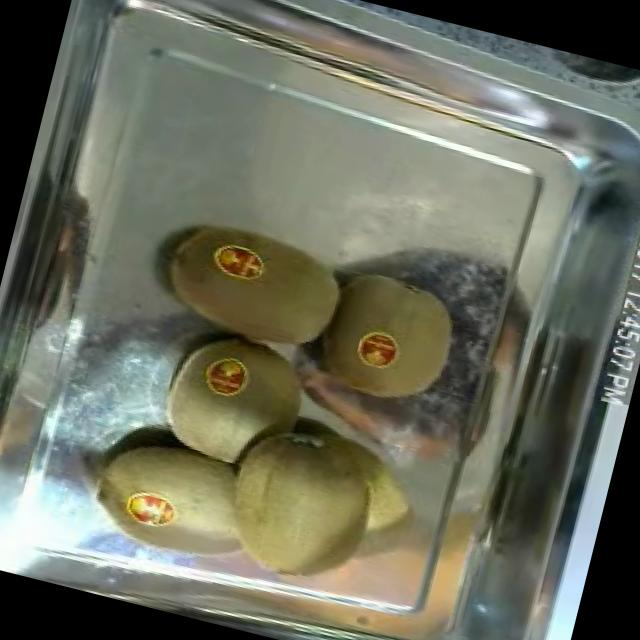Fruit: (190, 388, 406, 614), (139, 208, 359, 376), (311, 251, 487, 433)
